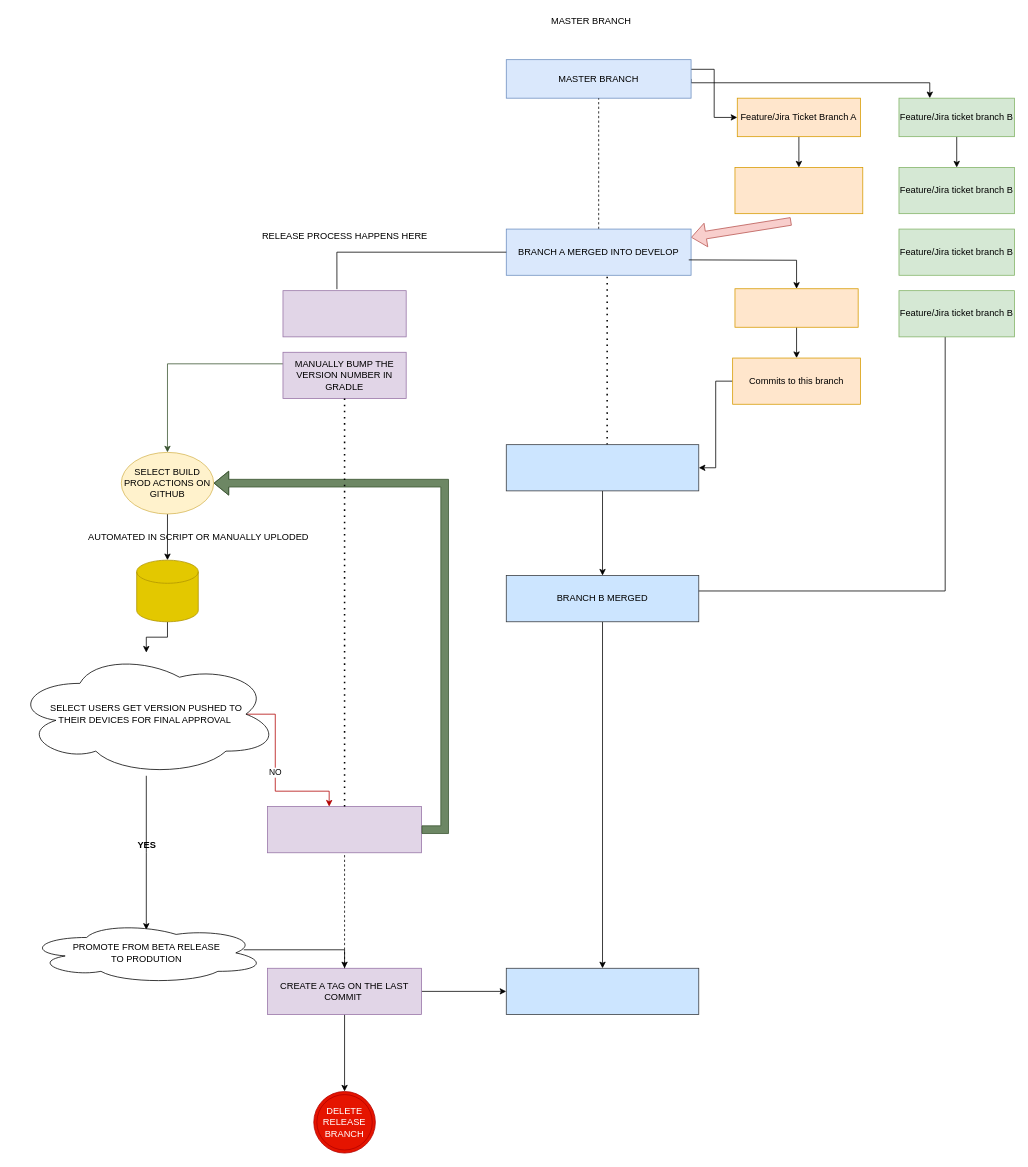
This 1028x1167 diagram has some shape labels left out. Here are the shapes that lost their labels. From the top down, the box of each, then its label:
(734, 167, 863, 214): Commits to this branch A
(282, 290, 406, 337): MANUALLY CREATE RELEASE BRANCH BASED UPON FEATURE A MERGE
(734, 288, 858, 327): Feature/Jira Ticket Branch C
(506, 444, 699, 491): BRANCH C MERGED
(136, 559, 198, 622): PLAY STORE BETA TRACK
(267, 806, 422, 853): UPDATE RELEASE BRANCH BUMP VERSION
(506, 968, 699, 1014): RELEASE BRANCH MERGED
